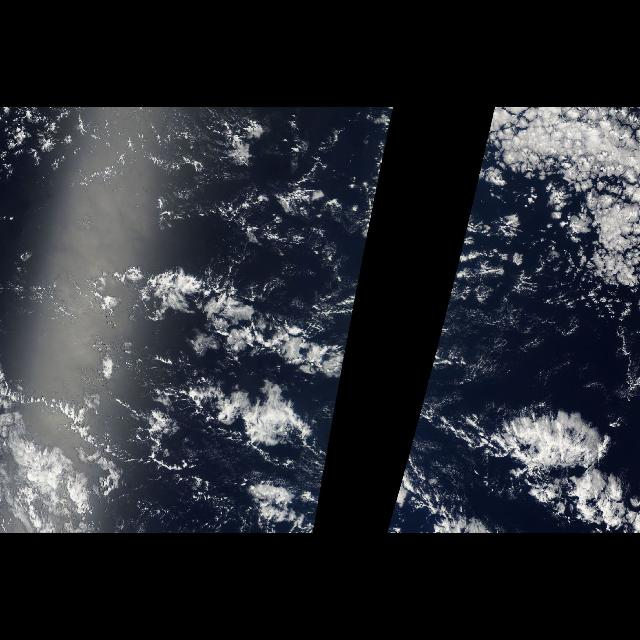Fish: (115, 253, 365, 532), (387, 264, 639, 532)
Gravel: (105, 377, 249, 533)
Sugar: (426, 284, 568, 408), (86, 108, 228, 182)
